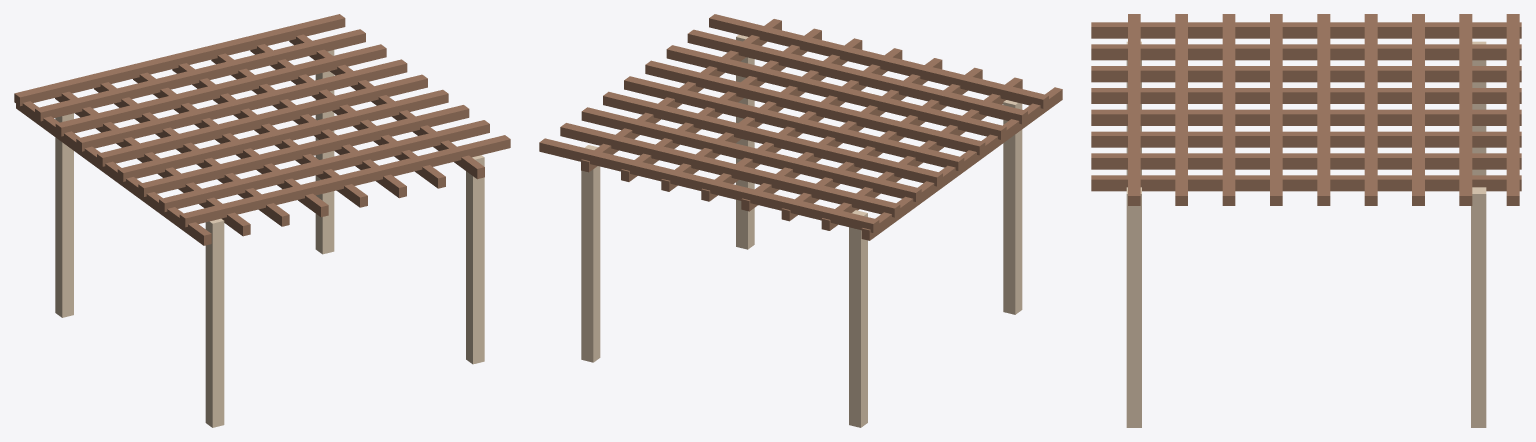
The model's file is pergola.obj.
3 renders of one model, left to right at view 1: azimuth 30°, elevation 25°; view 2: azimuth 150°, elevation 25°; view 3: azimuth 270°, elevation 25°, orthographic. The views are drawn at different scales.
Visible parts, largest first — view 1: pergola; view 2: pergola; view 3: pergola.
Part boxes in pixels (left/top/right/bottom): pergola: left=14, top=14, right=510, bottom=427; pergola: left=539, top=14, right=1062, bottom=427; pergola: left=1091, top=14, right=1521, bottom=427.
Size of the model in its own units: 5 by 3.16 by 5.
